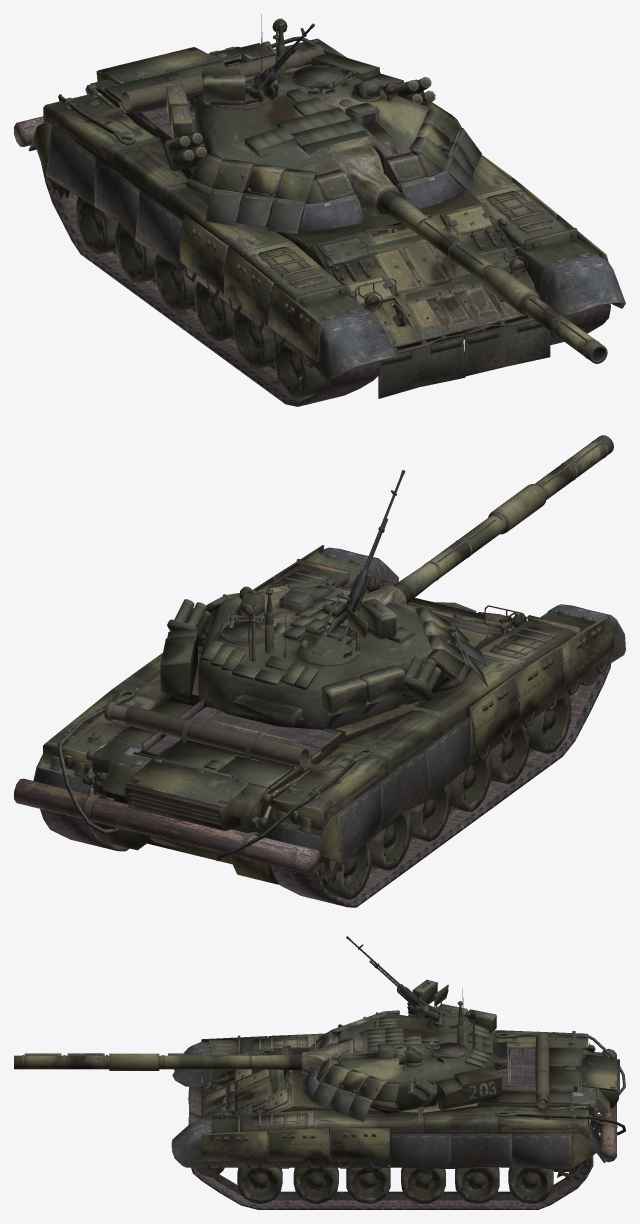
The picture shows the model from 3 angles, top to bottom: view 1: azimuth 30°, elevation 25°; view 2: azimuth 150°, elevation 25°; view 3: azimuth 270°, elevation 25°; orthographic projection. The views are drawn at different scales.
Parts seen in each view (by area): view 1: New object, New object.001; view 2: New object, New object.001; view 3: New object, New object.001.
Part boxes in pixels (box(x1,y1,x2,y2)): New object: box(14, 36, 625, 406); New object.001: box(163, 14, 607, 363); New object: box(14, 545, 625, 907); New object.001: box(160, 435, 613, 730); New object: box(171, 1030, 625, 1209); New object.001: box(14, 936, 506, 1121).
Bounding box in the file's own units: 3787 × 3793 × 9903.
